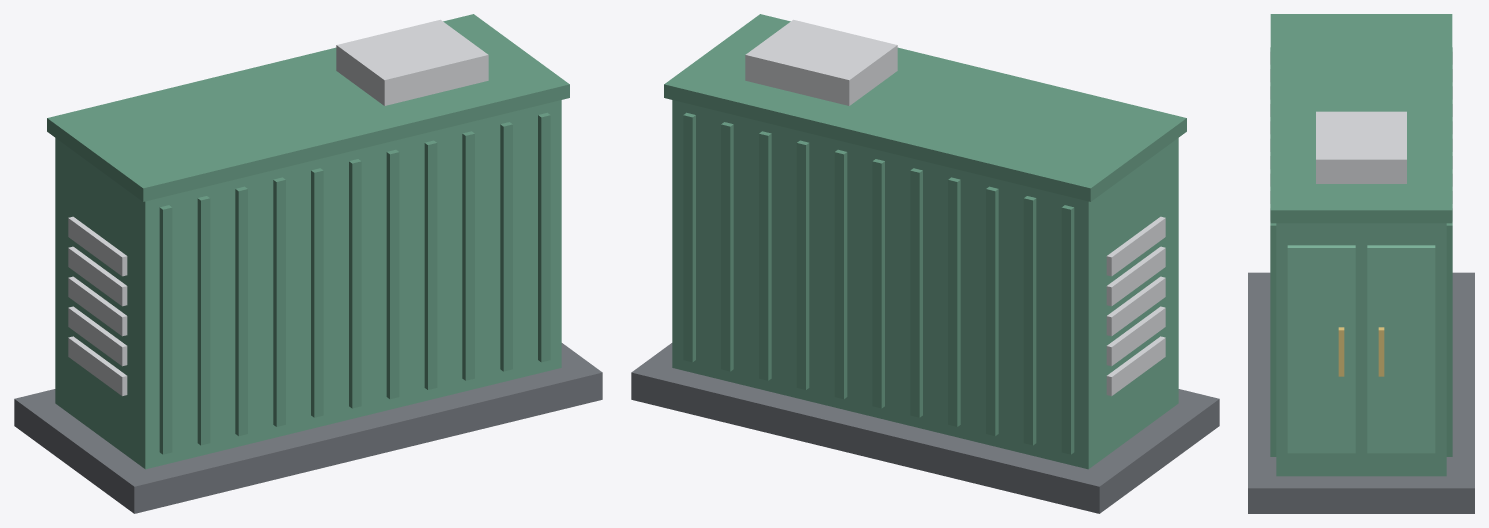
Rendered from battery.glb.
The picture shows the model from 3 angles, left to right: view 1: azimuth 30°, elevation 25°; view 2: azimuth 150°, elevation 25°; view 3: azimuth 270°, elevation 25°; orthographic projection. The views are drawn at different scales.
Parts seen in each view (by area): view 1: body, roof, pad, exhaust, rib_13, rib, rib_15, rib_3, rib_17, rib_19, rib_21, rib_11 (+8 smaller); view 2: body, roof, pad, exhaust, rib_14, rib_2, rib_16, rib_4, rib_18, rib_20, rib_22, rib_12 (+8 smaller); view 3: roof, pad, body, door, door_2, exhaust, rib_21, rib_22, handle, handle_2.
Boxes of the visible parts, x1,y1,x2,y2 form: body: [55, 100, 561, 469]; roof: [47, 14, 569, 201]; pad: [14, 343, 602, 513]; exhaust: [336, 19, 488, 105]; rib_13: [386, 149, 399, 399]; rib: [159, 205, 172, 454]; rib_15: [424, 140, 437, 389]; rib_3: [197, 196, 210, 445]; rib_17: [462, 131, 474, 380]; rib_19: [500, 122, 512, 371]; rib_21: [538, 112, 550, 362]; rib_11: [349, 159, 361, 408]; body: [672, 100, 1178, 469]; roof: [664, 14, 1186, 201]; pad: [631, 343, 1219, 513]; exhaust: [745, 19, 897, 105]; rib_14: [834, 149, 847, 399]; rib_2: [1061, 205, 1074, 454]; rib_16: [796, 140, 809, 389]; rib_4: [1023, 196, 1036, 445]; rib_18: [759, 131, 771, 380]; rib_20: [721, 122, 733, 371]; rib_22: [683, 112, 695, 362]; rib_12: [872, 159, 884, 408]; roof: [1270, 14, 1452, 223]; pad: [1248, 272, 1474, 513]; body: [1276, 223, 1446, 476]; door: [1367, 245, 1435, 453]; door_2: [1287, 245, 1355, 453]; exhaust: [1316, 111, 1406, 183]; rib_21: [1270, 222, 1276, 456]; rib_22: [1446, 222, 1452, 456]; handle: [1378, 327, 1384, 376]; handle_2: [1338, 327, 1344, 376].
Size of the model in its own units: 9 by 6.2 by 4.
